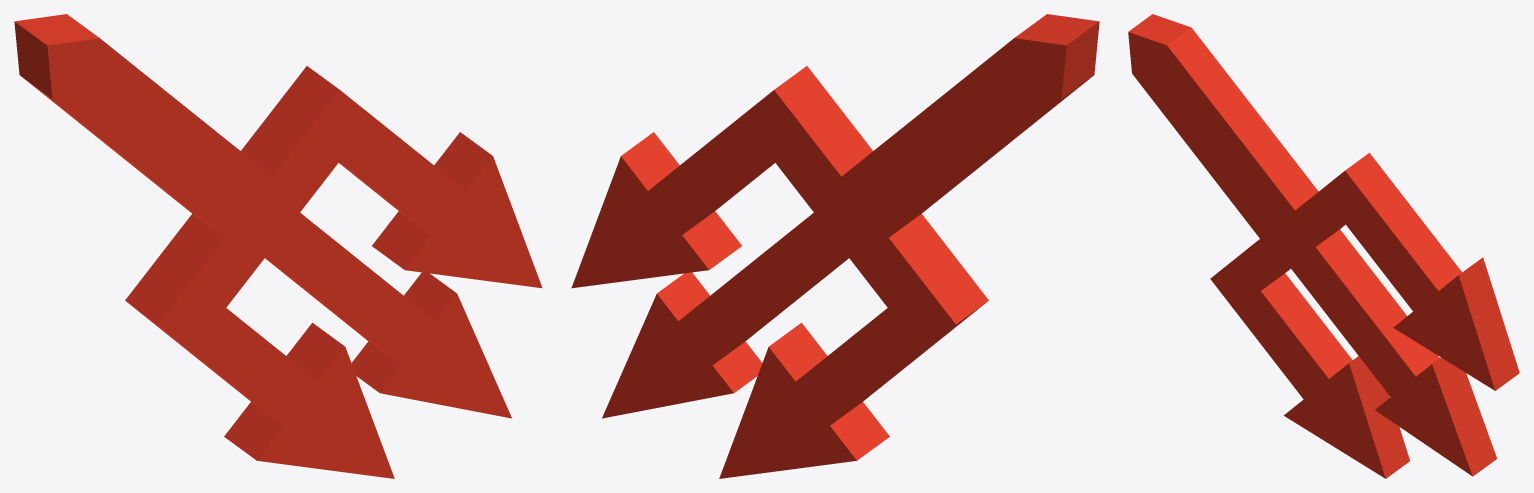
File: Icon_Trident.fbx
The picture shows the model from 3 angles, left to right: view 1: azimuth 30°, elevation 25°; view 2: azimuth 150°, elevation 25°; view 3: azimuth 330°, elevation 25°; orthographic projection. The views are drawn at different scales.
Parts seen in each view (by area): view 1: Icon_Trident; view 2: Icon_Trident; view 3: Icon_Trident.
Boxes of the visible parts, x1,y1,x2,y2 form: Icon_Trident: (14, 14, 542, 478); Icon_Trident: (571, 14, 1099, 478); Icon_Trident: (1128, 14, 1519, 478).
Bounding box in the file's own units: 76.69 × 76.68 × 8.85.
